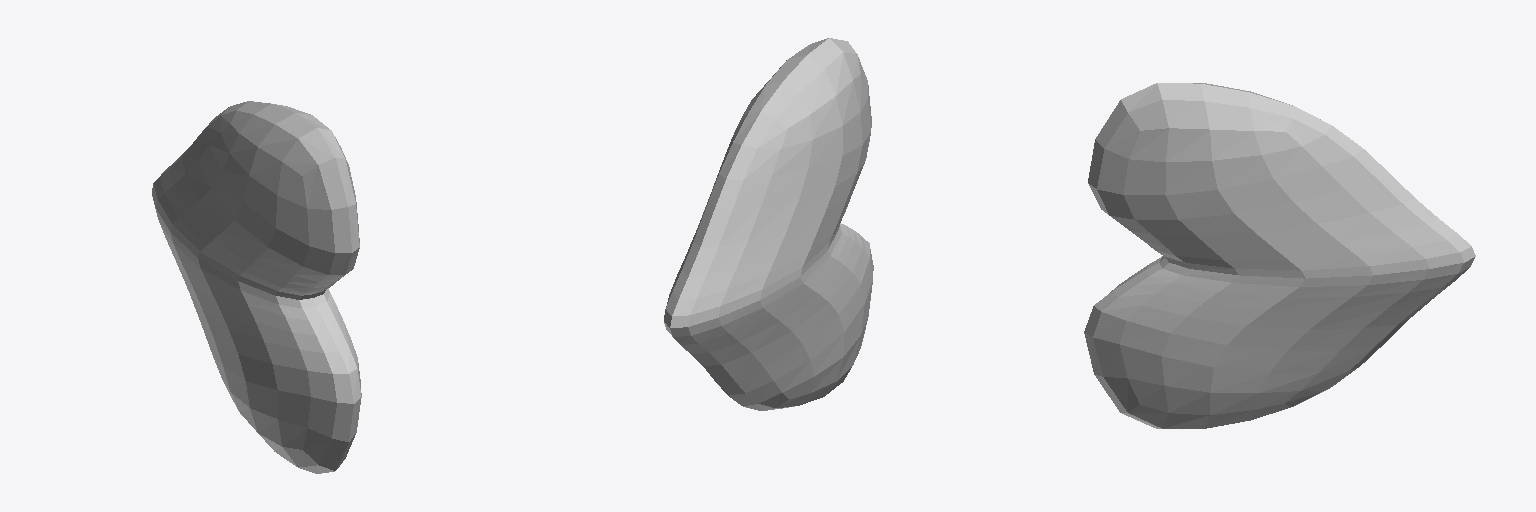
Rendered from Heart2.obj.
3 renders of one model, left to right at view 1: azimuth 30°, elevation 25°; view 2: azimuth 150°, elevation 25°; view 3: azimuth 270°, elevation 25°, orthographic.
Parts seen in each view (by area): view 1: Cube.021_Cube.331; view 2: Cube.021_Cube.331; view 3: Cube.021_Cube.331.
Part boxes in pixels (left/top/right/bottom): Cube.021_Cube.331: left=152, top=101, right=361, bottom=473; Cube.021_Cube.331: left=664, top=38, right=873, bottom=410; Cube.021_Cube.331: left=1084, top=83, right=1475, bottom=428.
Bounding box in the file's own units: 0.5016 × 1.83 × 1.88.